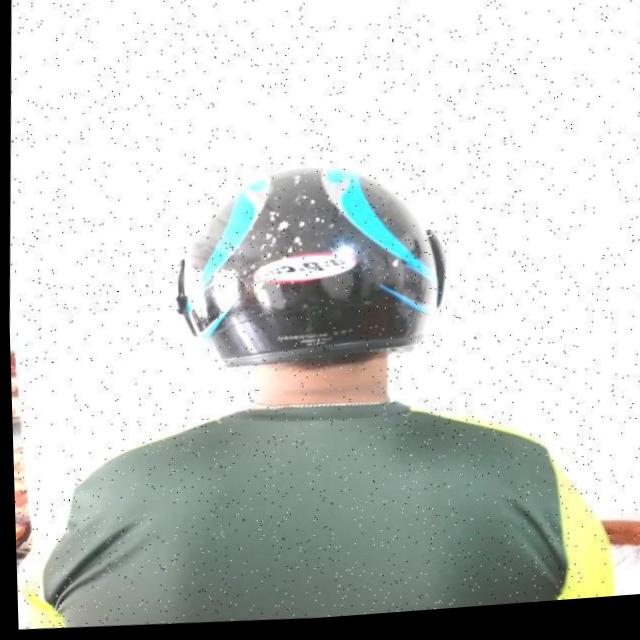helmet: (170, 159, 452, 386)
